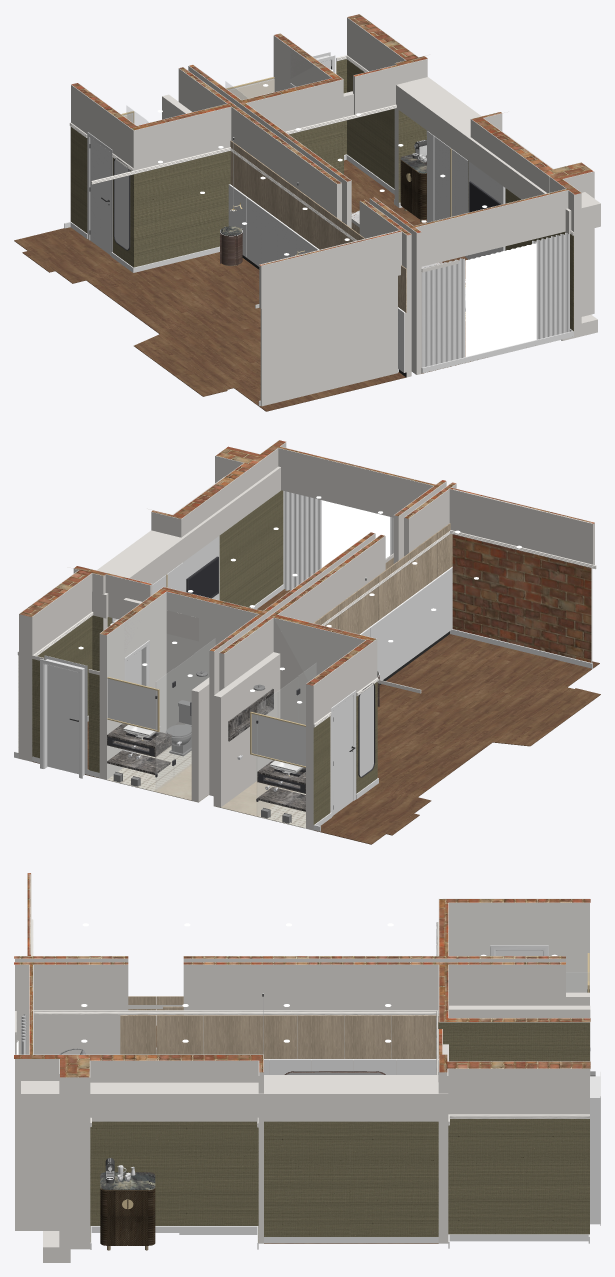
Rendered from habitacion-216-max.glb.
The picture shows the model from 3 angles, top to bottom: view 1: azimuth 30°, elevation 25°; view 2: azimuth 150°, elevation 25°; view 3: azimuth 270°, elevation 25°; orthographic projection. The views are drawn at different scales.
Visible parts, largest first — view 1: Suelo HLF-PI-01 VINILO MADERA 10 [555580], Muro básico HLF-MU-FACHADA-120 [719335], Muro básico HLF-PINTURA VERDE OLIVA 3 [712458], HLF_VELO_216, Muro básico HLF-CORNISA-VENTANA [642782], Muro básico HLF-CORNISA-VENTANA [581247], HLF_MARQUESINA_216_RECTA, Muro básico HLF-MU-INT-150 [430688], Muro básico HLF-MU-INT-100 [430620], HLF_CORTINA_216_IZQ, Muro básico HLF-MU-INT-150 [430689], HLF_CORTINA_216_DER (+39 smaller); view 2: Suelo HLF-PI-01 VINILO MADERA 10 [555580], Muro básico HLF-MU-FACHADA-120 [719335], 2017_ES_Puerta_Oblak-Hnos_De-Interior-Linea_Tekstura HLF-PUE (×3), Muro básico HLF-CORNISA-VENTANA [642782], Muro básico HLF-CORNISA-VENTANA [581247], HLF_MARQUESINA_216_RECTA, Muro básico HLF-MU-INT-150 [430838], Muro básico HLF-MU-ENCHAPE NICHO 140 [771565], Muro básico HLF-MU-INT-150 [430689], Muro básico HLF-MU-INT-150 [430688], Muro básico HLF-MU-INT-265 [430876], HLF DIVISION VIDRIO DUCHA 217 [770547] (+52 smaller); view 3: HLF_MARQUESINA_216_RECTA, Muro básico HLF-PINTURA VERDE OLIVA 3 [712626], Muro básico HLF-MU-INT-100 [430621], Muro básico HLF-PINTURA VERDE OLIVA 3 [712560], Muro básico HLF-PINTURA VERDE OLIVA 3 [712553], Muro básico HLF-MU-INT-100 [430745], Muro básico HLF-MU-INT-150 [430837], Muro básico HLF-PINTURA VERDE OLIVA 3 [712653], Muro básico HLF-MU-INT-265 [430876], Muro básico HLF-MU-INT-155 [430833], Muro básico HLF-PINTURA VERDE OLIVA 3 [712660], Muro básico HLF-MU-INT-150 [430838] (+31 smaller).
Part boxes in pixels (x1,y1,x2,y2): Suelo HLF-PI-01 VINILO MADERA 10 [555580]: (14,227,406,411); Muro básico HLF-MU-FACHADA-120 [719335]: (260,231,397,406); Muro básico HLF-PINTURA VERDE OLIVA 3 [712458]: (133,151,230,267); HLF_VELO_216: (465,243,536,356); Muro básico HLF-CORNISA-VENTANA [642782]: (259,230,401,308); Muro básico HLF-CORNISA-VENTANA [581247]: (414,189,568,266); HLF_MARQUESINA_216_RECTA: (396,77,600,234); Muro básico HLF-MU-INT-150 [430688]: (129,103,231,170); Muro básico HLF-MU-INT-100 [430620]: (228,103,341,220); HLF_CORTINA_216_IZQ: (421,258,464,367); Muro básico HLF-MU-INT-150 [430689]: (242,76,343,131); HLF_CORTINA_216_DER: (532,232,569,339); Suelo HLF-PI-01 VINILO MADERA 10 [555580]: (314,634,600,844); Muro básico HLF-MU-FACHADA-120 [719335]: (452,489,592,662); 2017_ES_Puerta_Oblak-Hnos_De-Interior-Linea_Tekstura HLF-PUE (×3): (40,640,356,816); Muro básico HLF-CORNISA-VENTANA [642782]: (449,487,594,564); Muro básico HLF-CORNISA-VENTANA [581247]: (278,446,435,517); HLF_MARQUESINA_216_RECTA: (92,466,280,618); Muro básico HLF-MU-INT-150 [430838]: (99,587,166,779); Muro básico HLF-MU-ENCHAPE NICHO 140 [771565]: (213,652,280,807); Muro básico HLF-MU-INT-150 [430689]: (160,586,262,729); Muro básico HLF-MU-INT-150 [430688]: (273,614,377,724); Muro básico HLF-MU-INT-265 [430876]: (19,570,92,761); HLF DIVISION VIDRIO DUCHA 217 [770547]: (156,639,215,790); HLF_MARQUESINA_216_RECTA: (21,1075,448,1121); Muro básico HLF-PINTURA VERDE OLIVA 3 [712626]: (448,1119,589,1234); Muro básico HLF-MU-INT-100 [430621]: (183,962,448,1058); Muro básico HLF-PINTURA VERDE OLIVA 3 [712560]: (350,1121,438,1236); Muro básico HLF-PINTURA VERDE OLIVA 3 [712553]: (264,1121,350,1236); Muro básico HLF-MU-INT-100 [430745]: (14,962,128,1054); Muro básico HLF-MU-INT-150 [430837]: (443,898,590,992); Muro básico HLF-PINTURA VERDE OLIVA 3 [712653]: (179,1121,258,1225); Muro básico HLF-MU-INT-265 [430876]: (447,1061,590,1114); Muro básico HLF-MU-INT-155 [430833]: (14,1054,74,1230); Muro básico HLF-PINTURA VERDE OLIVA 3 [712660]: (90,1121,179,1225); Muro básico HLF-MU-INT-150 [430838]: (439,1018,590,1061).
Size of the model in its own units: 7.79 by 3 by 8.52.
56 materials, 15 textured.
